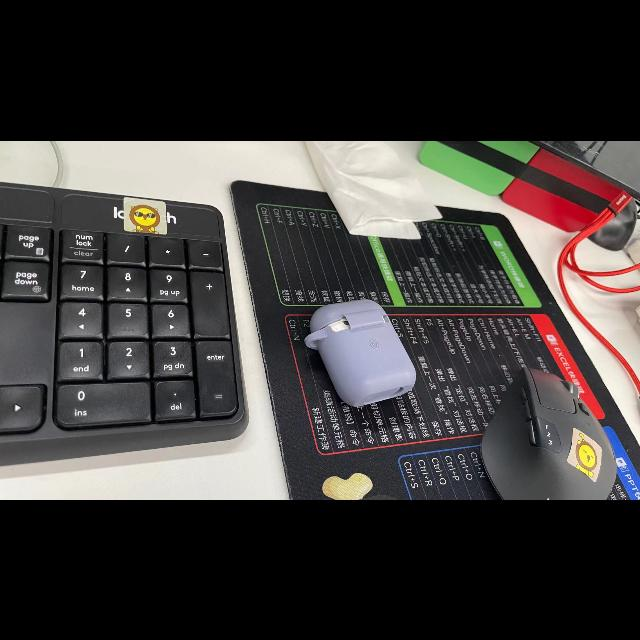airpods: (305, 297, 417, 407)
